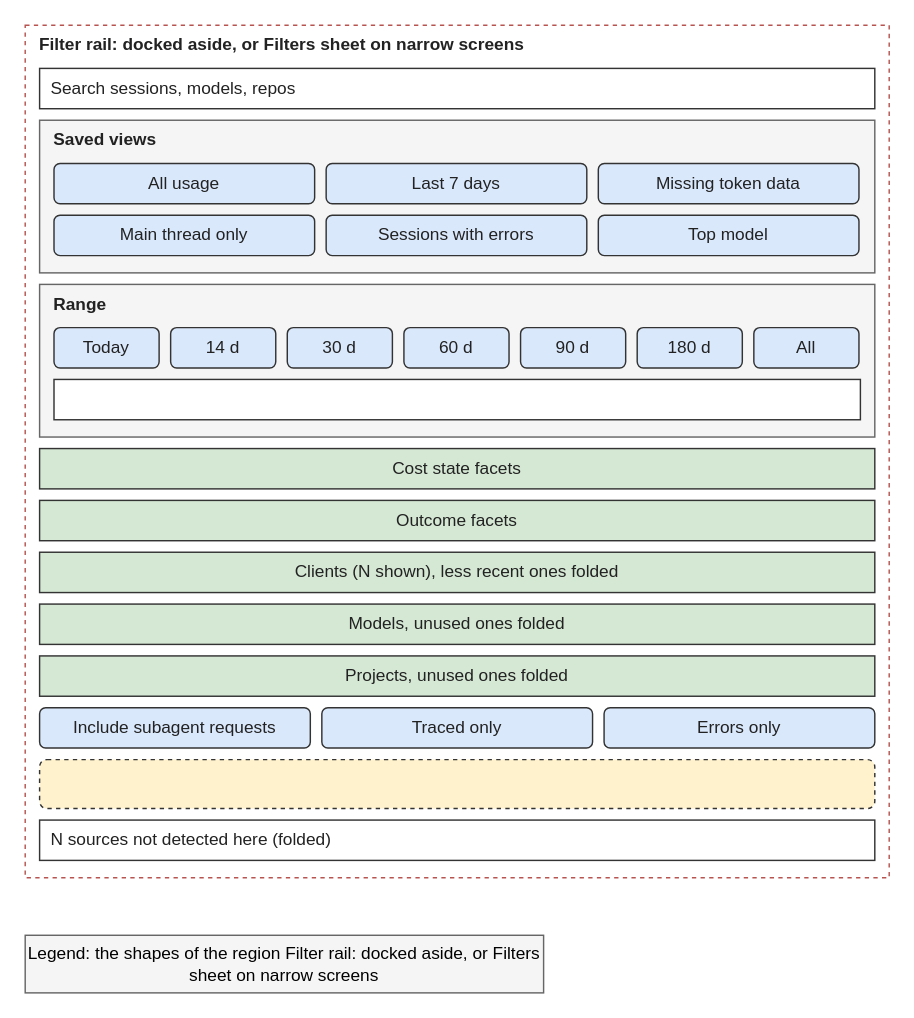
Image size: 914x1018. Some labels were removed from this diagram. The shapes that lost their labels are listed below. From the top down, each one's centre as x and y in pixels, then its label:
the point at 456,399: since and until date fields
the point at 456,783: Clear all filters (only when a filter is set)
